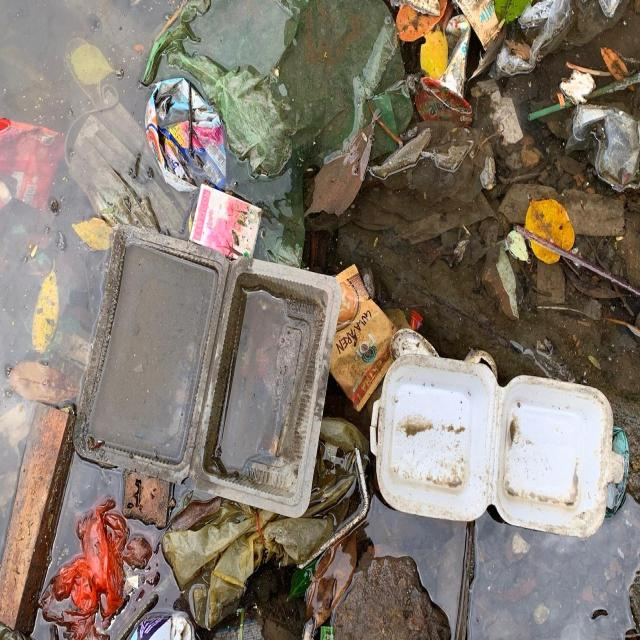Bungkus Makanan: (71, 221, 340, 524), (373, 352, 625, 538)
Bungkus Minuman: (316, 267, 400, 409), (417, 17, 475, 132)
Kantong Plastik: (161, 1, 420, 182), (43, 502, 133, 639)
